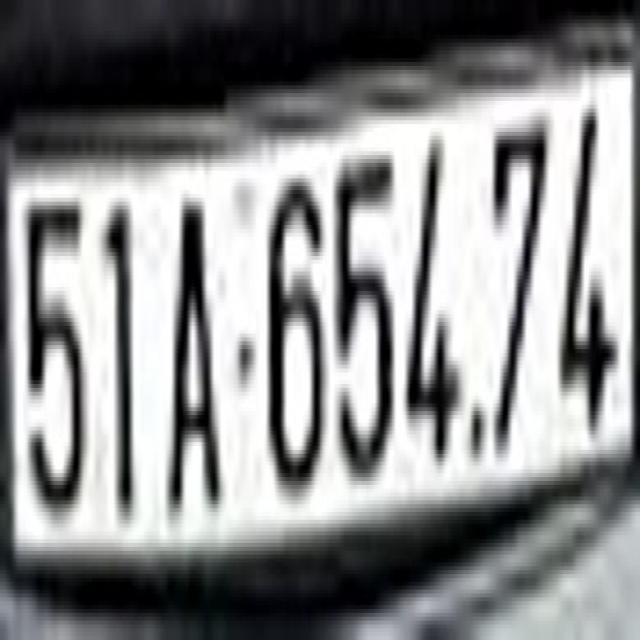1: (101, 198, 137, 500)
4: (408, 120, 454, 477), (567, 105, 615, 442)
5: (336, 147, 397, 466), (25, 179, 82, 508)
6: (269, 163, 323, 473)
7: (490, 97, 542, 450)
A: (166, 190, 220, 512)
